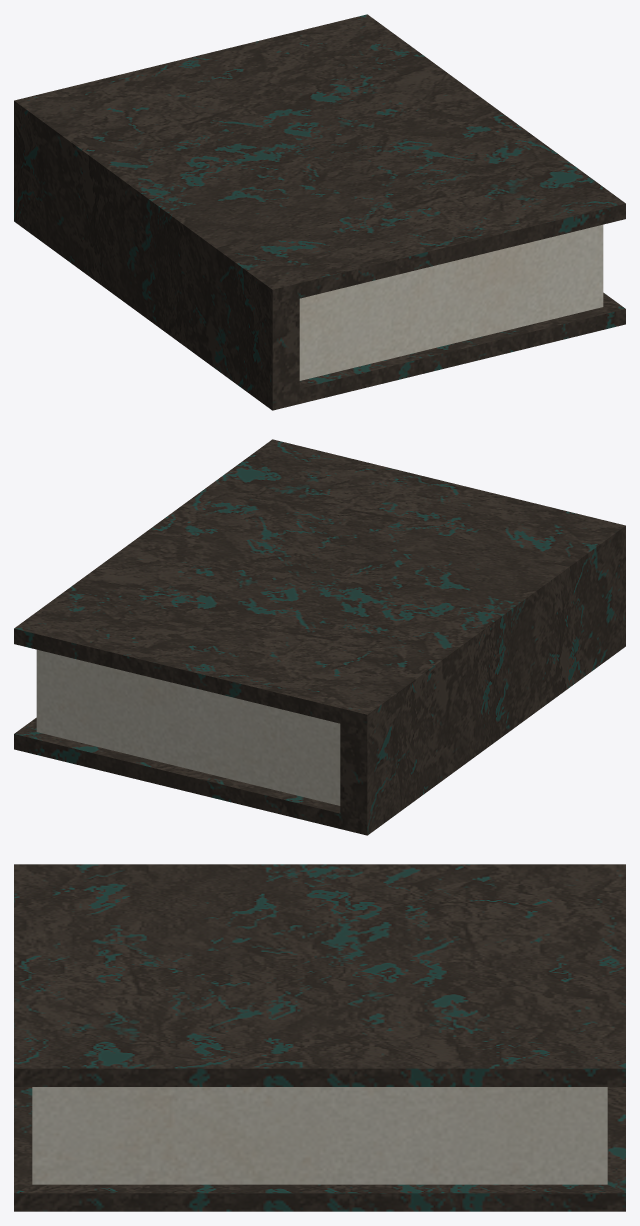
Rendered from book2.fbx.
3 views of the same model, one above another, from view 1: azimuth 30°, elevation 25°; view 2: azimuth 150°, elevation 25°; view 3: azimuth 270°, elevation 25° (orthographic). The views are drawn at different scales.
Visible parts, largest first — view 1: pCube59; view 2: pCube59; view 3: pCube59.
Part boxes in pixels (x1,y1,x2,y2): pCube59: (14, 14, 625, 410); pCube59: (14, 439, 625, 835); pCube59: (14, 864, 625, 1211).
Size of the model in its own units: 0.2101 by 0.0686 by 0.2661.
